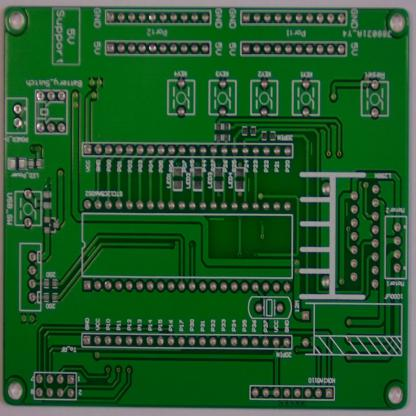spurious_copper: (84, 243, 101, 258), (208, 213, 226, 225), (342, 197, 351, 218), (307, 138, 316, 158), (245, 175, 253, 195)
